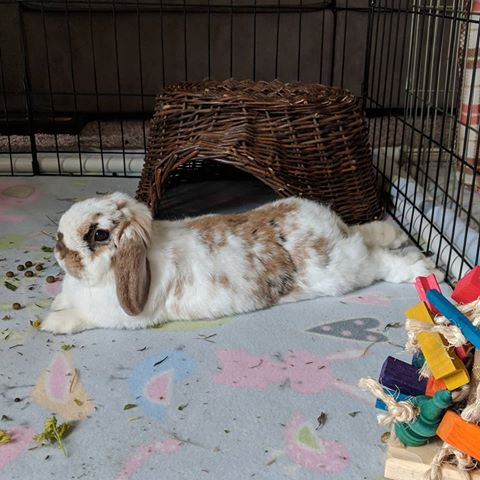bunny: (21, 169, 431, 345)
